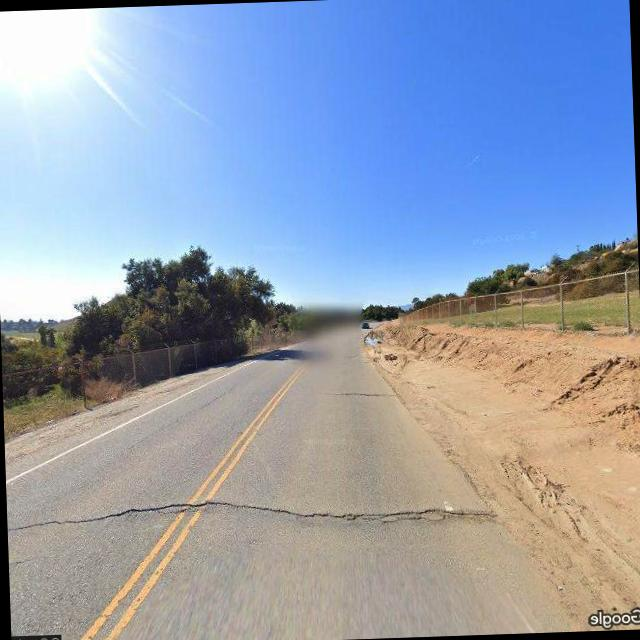crack: (6, 476, 502, 550), (318, 385, 398, 397)
